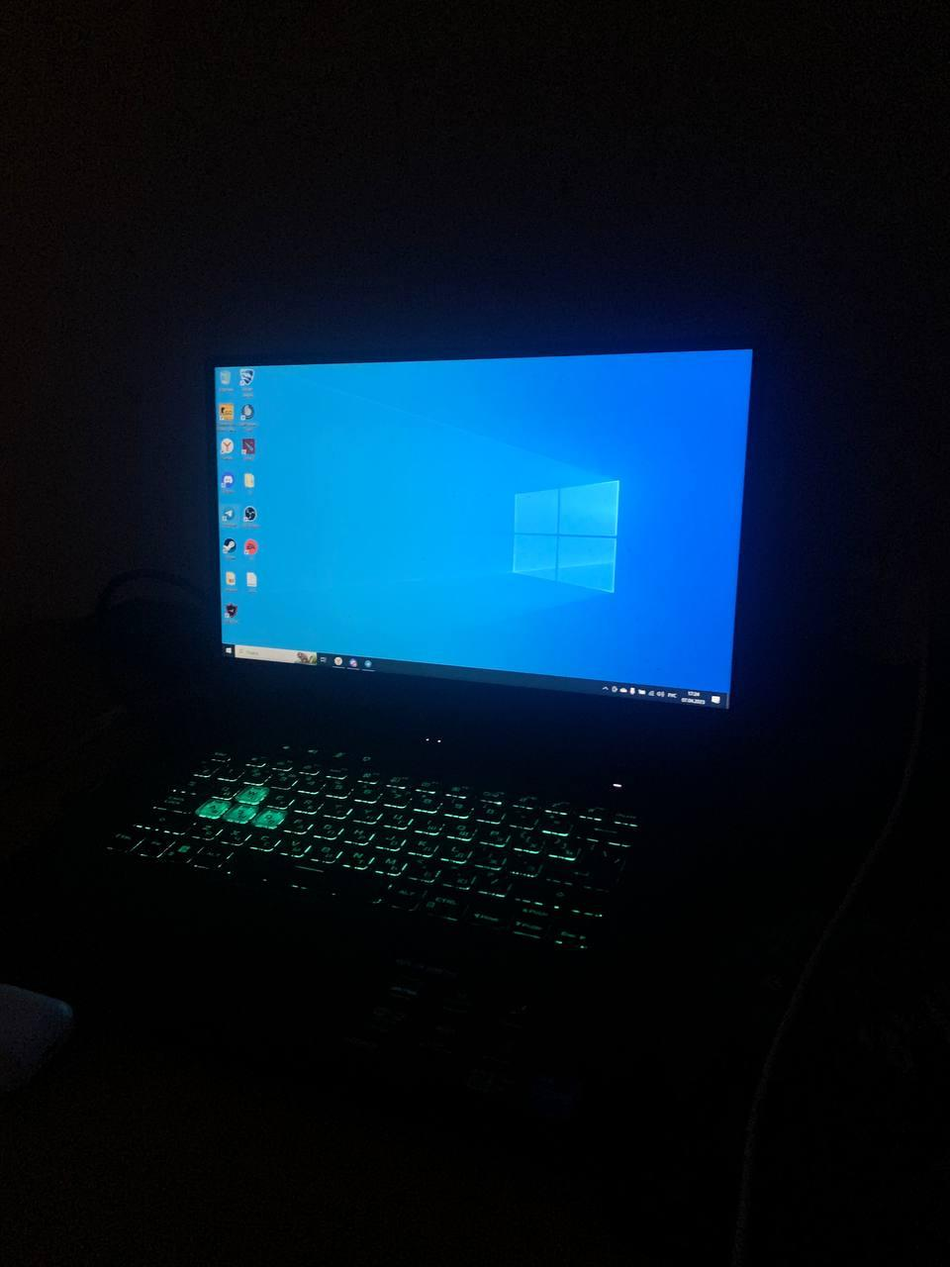monitor: (198, 332, 769, 732)
